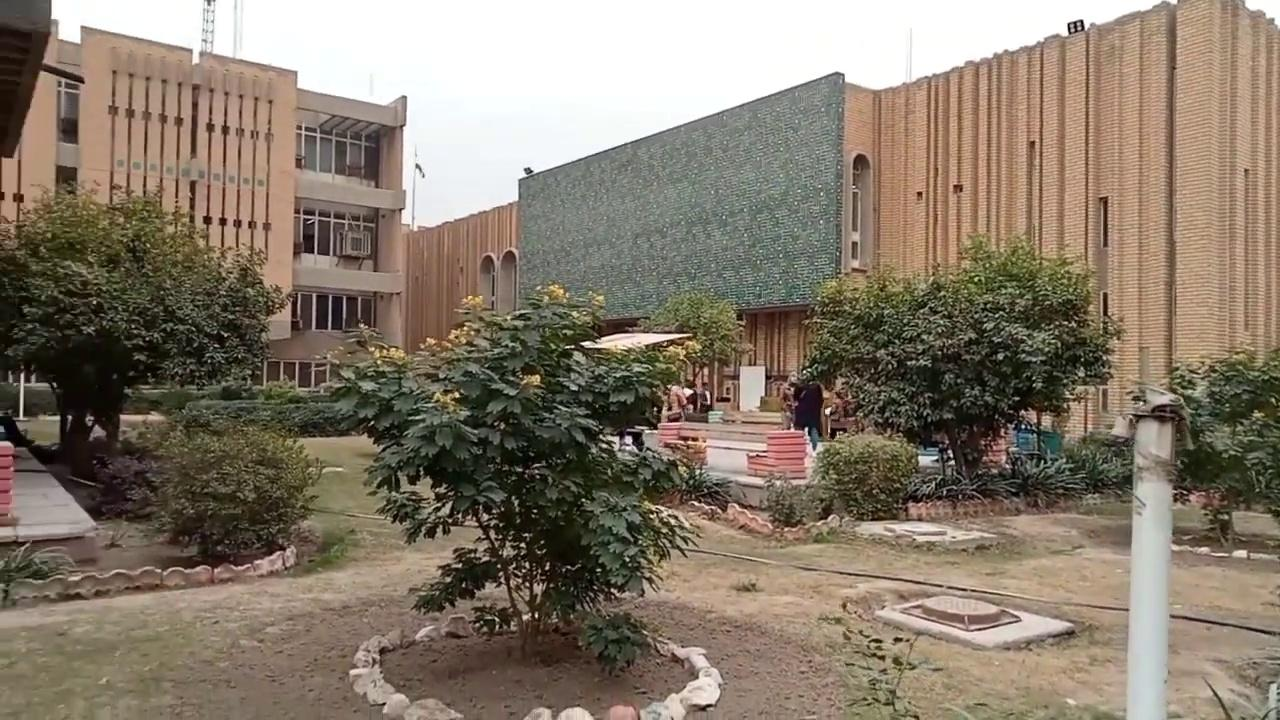person: (791, 376, 824, 453), (682, 379, 698, 412), (697, 381, 711, 413)
tree: (318, 280, 727, 669), (0, 176, 293, 477), (796, 229, 1124, 484), (138, 410, 324, 564), (1166, 341, 1279, 544), (645, 287, 753, 412), (806, 430, 919, 521)
